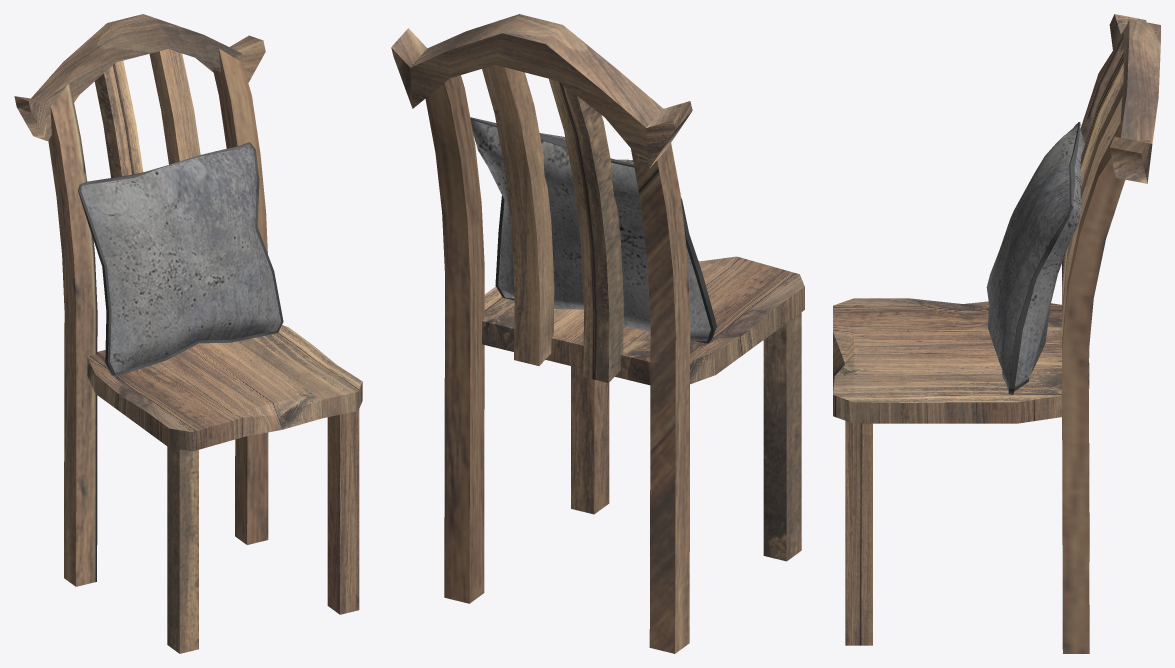
Rendered from Chair_2.fbx.
3 renders of one model, left to right at view 1: azimuth 30°, elevation 25°; view 2: azimuth 150°, elevation 25°; view 3: azimuth 270°, elevation 25°, orthographic. The views are drawn at different scales.
Visible parts, largest first — view 1: polySurface21, polySurface17, polySurface18, polySurface14, polySurface20, polySurface16, polySurface15, polySurface19, polySurface13; view 2: polySurface20, polySurface18, polySurface14, polySurface21, polySurface17, polySurface19, polySurface13, polySurface15, polySurface16; view 3: polySurface17, polySurface20, polySurface21, polySurface14, polySurface16, polySurface19, polySurface13, polySurface18.
Part boxes in pixels (x1,y1,x2,y2): polySurface21: (78,142,283,375); polySurface17: (87,325,362,451); polySurface18: (48,82,97,586); polySurface14: (14,14,265,140); polySurface20: (213,48,268,544); polySurface16: (327,409,359,614); polySurface15: (167,446,198,653); polySurface19: (149,49,200,164); polySurface13: (94,60,143,177); polySurface20: (412,59,484,603); polySurface18: (631,143,690,653); polySurface14: (391,14,692,169); polySurface21: (470,117,716,343); polySurface17: (482,256,804,385); polySurface19: (482,65,554,365); polySurface13: (549,79,623,382); polySurface15: (763,312,801,561); polySurface16: (571,366,609,514); polySurface17: (833,298,1062,423); polySurface20: (1062,117,1150,653); polySurface21: (986,122,1084,394); polySurface14: (1109,14,1160,183); polySurface16: (845,420,872,645); polySurface19: (1062,83,1123,388); polySurface13: (1062,52,1123,357); polySurface18: (1062,34,1123,561).
Bounding box in the file's own units: 284 × 600 × 311.
